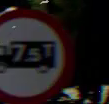Heavy Vehicles: (1, 7, 69, 103)
